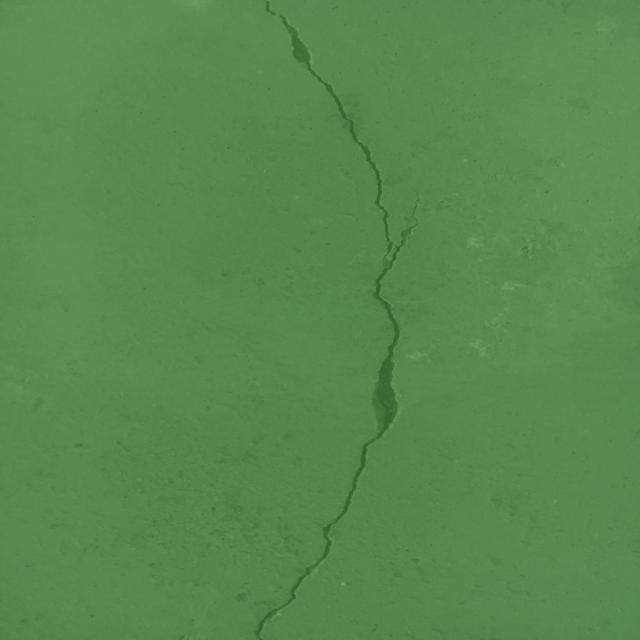crack: (255, 0, 420, 640)
